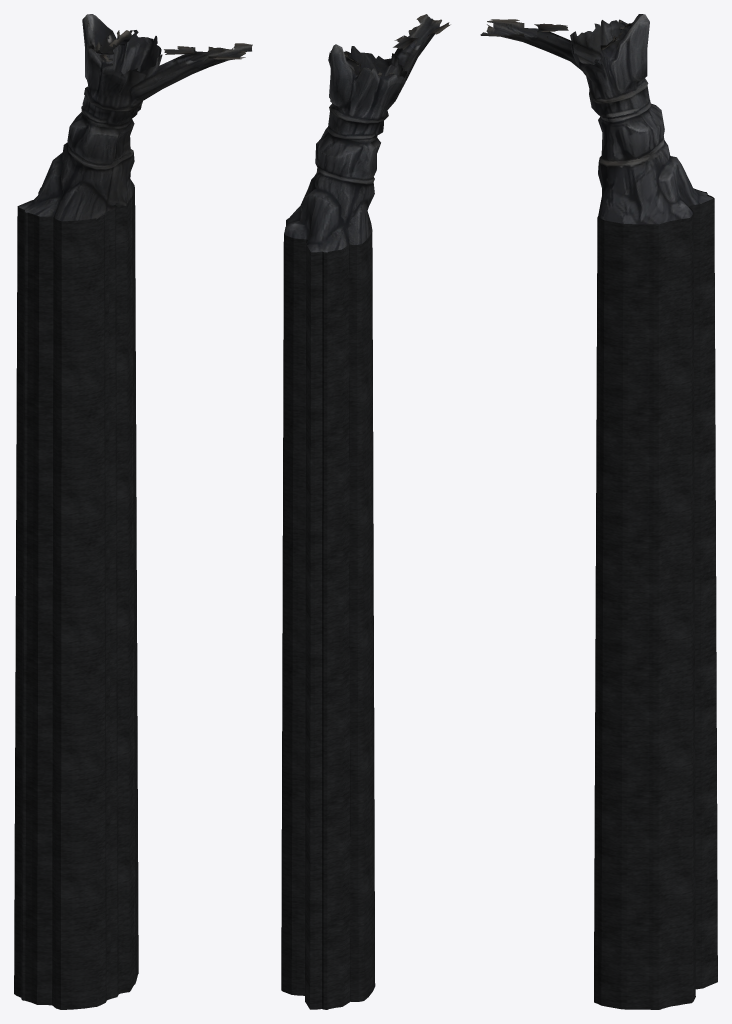
File: horaro_rock_pillar_4_lod0.glb
The picture shows the model from 3 angles, left to right: view 1: azimuth 90°, elevation 25°; view 2: azimuth 150°, elevation 25°; view 3: azimuth 270°, elevation 25°; orthographic projection. The views are drawn at different scales.
Visible parts, largest first — view 1: horaro_rock_pillar_4_L0_foundation, horaro_rock_pillar_4_lod0; view 2: horaro_rock_pillar_4_L0_foundation, horaro_rock_pillar_4_lod0; view 3: horaro_rock_pillar_4_L0_foundation, horaro_rock_pillar_4_lod0.
Part boxes in pixels (<box>): horaro_rock_pillar_4_L0_foundation: <box>14,187,138,1009</box>; horaro_rock_pillar_4_lod0: <box>19,14,252,221</box>; horaro_rock_pillar_4_L0_foundation: <box>281,218,375,1009</box>; horaro_rock_pillar_4_lod0: <box>284,14,450,252</box>; horaro_rock_pillar_4_L0_foundation: <box>594,188,717,1009</box>; horaro_rock_pillar_4_lod0: <box>480,14,712,224</box>.
Size of the model in its own units: 1.65 by 15.27 by 3.39.
Materials: 2 (2 with a texture image).
